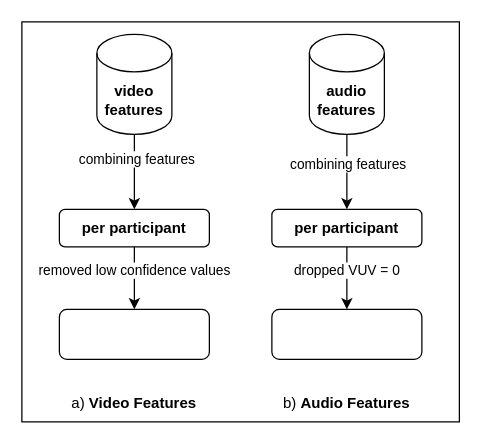
The diagram is 481 pixels wide and 444 high, and some of its shapes have lost their labels. The centre of each missing label's shape, as x and y in pixels:
"clean audio dataset (78 visual features)" belongs at (x=346, y=333).
"clean video dataset (378 visual features)" belongs at (x=133, y=333).
